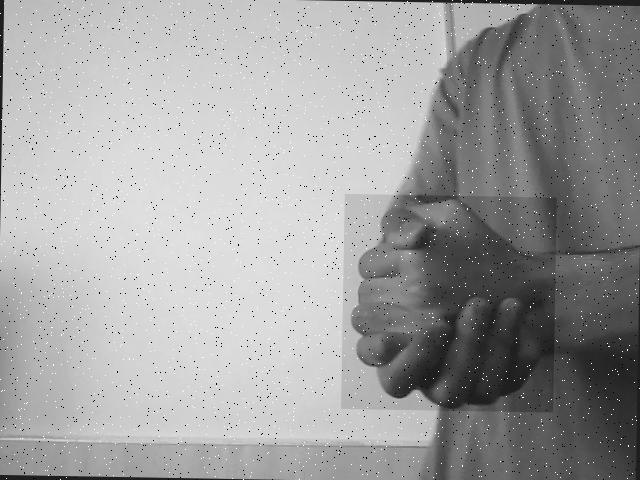friend: (345, 195, 554, 410)
